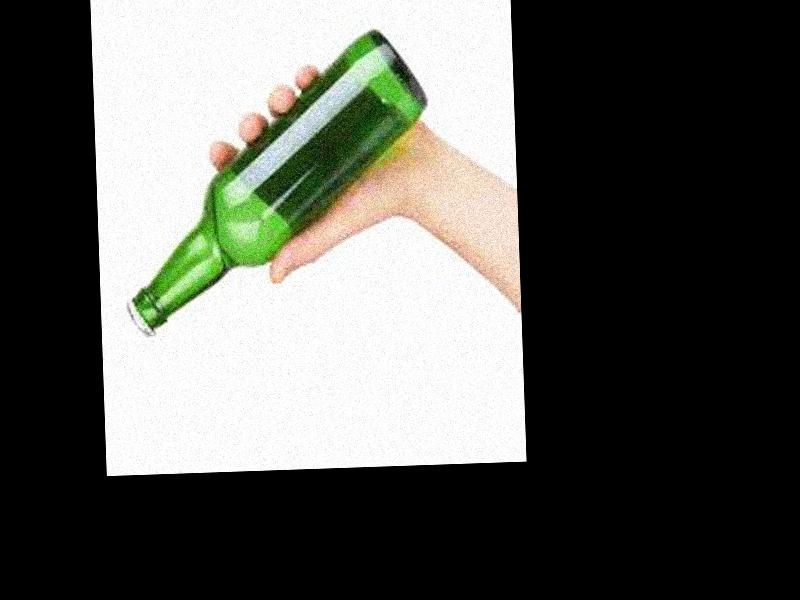Beer: (122, 30, 440, 337)
